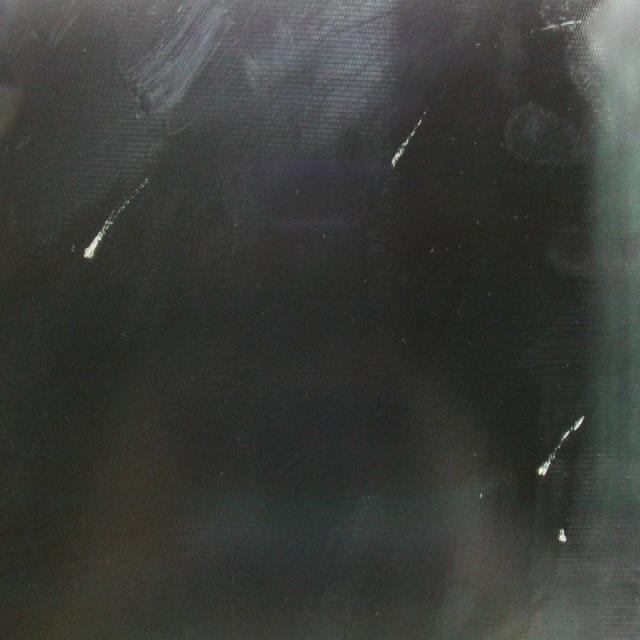scratch: (74, 168, 158, 267), (531, 406, 589, 482), (385, 105, 439, 175), (524, 8, 590, 44)
very small scratch: (552, 514, 574, 548)
